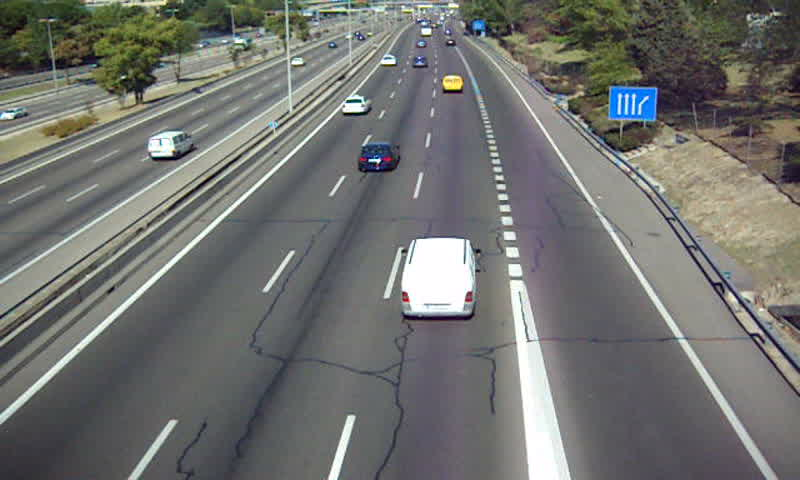car: (359, 143, 399, 173), (340, 96, 370, 116), (411, 54, 428, 70), (379, 54, 396, 66)
van: (400, 238, 474, 321), (442, 75, 462, 93)
